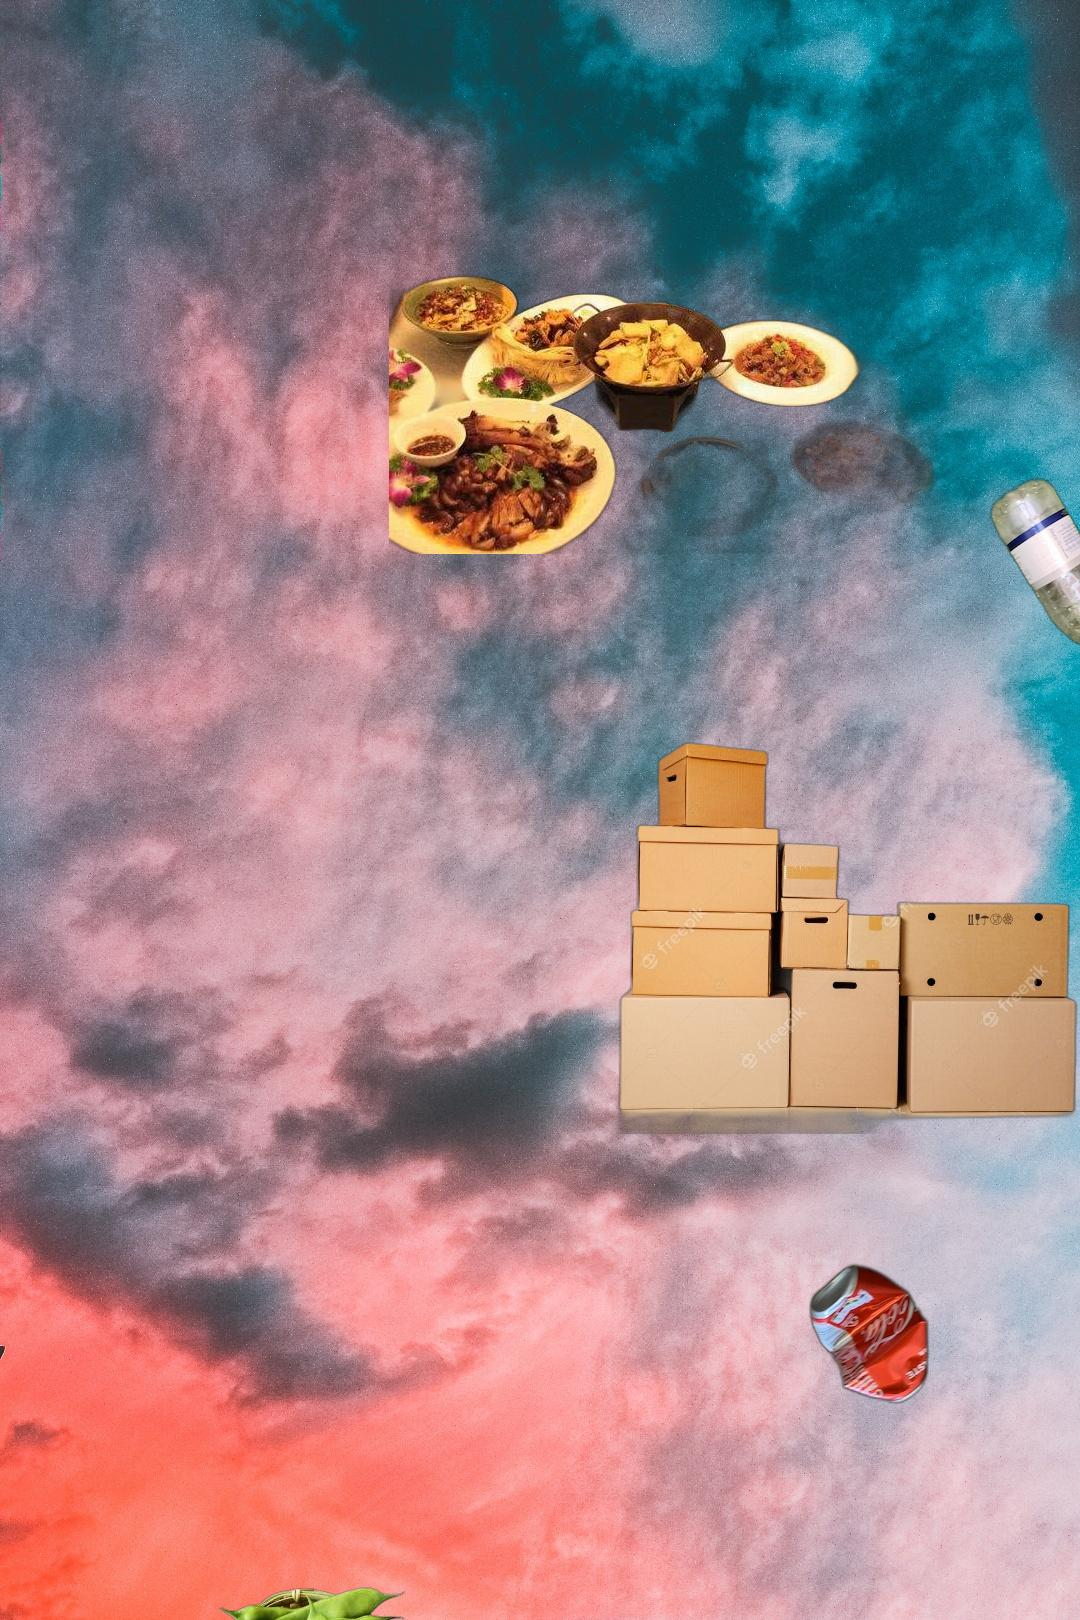biological: (389, 272, 959, 554), (204, 1585, 421, 1620)
glass: (434, 1524, 720, 1620)
metal-cans: (805, 1260, 933, 1409)
plastic-bottles: (788, 472, 1080, 973)
trashbox-cardboard: (612, 739, 1080, 1134)
